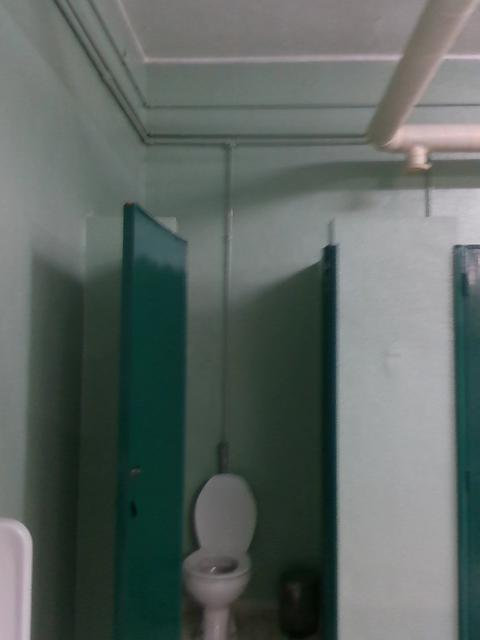open_door: (174, 212, 338, 638)
